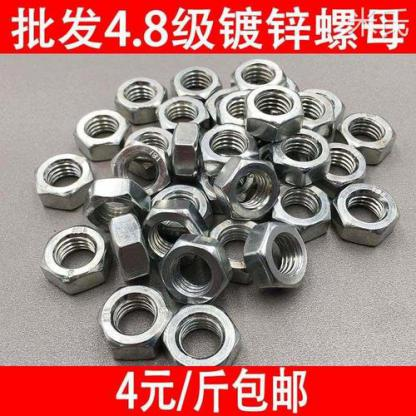FOD: (98, 283, 171, 363), (163, 302, 241, 374), (159, 235, 230, 308), (39, 226, 110, 297), (327, 181, 400, 247), (140, 196, 206, 269), (244, 220, 309, 292), (213, 154, 280, 223), (105, 140, 170, 202), (242, 83, 305, 145), (270, 180, 332, 242), (84, 176, 149, 231), (34, 153, 92, 212), (337, 110, 397, 167), (271, 128, 331, 182), (72, 107, 130, 162), (107, 212, 151, 282), (198, 124, 254, 177), (114, 76, 166, 126), (319, 143, 367, 191), (233, 57, 289, 94), (172, 64, 222, 104), (154, 96, 209, 130), (293, 90, 335, 134), (171, 126, 202, 178)
